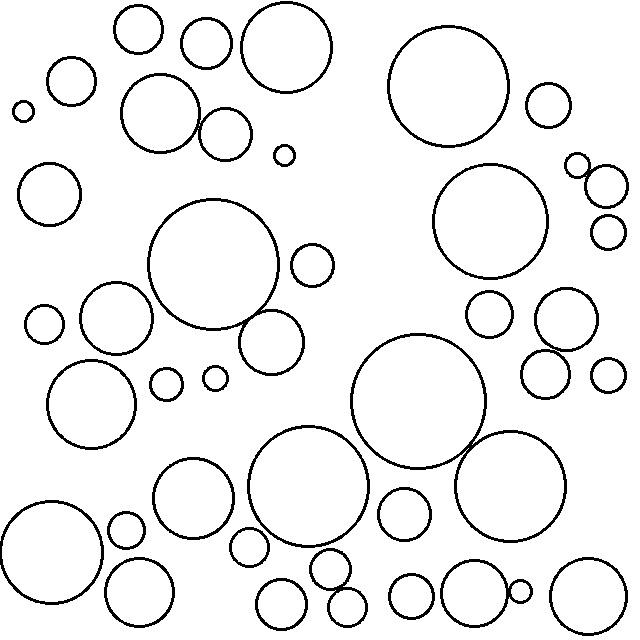circle: (347, 331, 489, 470), (147, 194, 283, 331), (387, 22, 511, 149), (247, 425, 373, 548), (431, 159, 551, 282), (453, 429, 570, 544), (3, 497, 105, 607), (241, 0, 336, 97), (43, 357, 138, 453), (152, 453, 237, 542), (119, 71, 201, 156), (550, 553, 630, 637), (78, 279, 154, 357), (104, 554, 176, 630), (237, 309, 307, 379), (439, 558, 508, 629), (16, 159, 85, 229), (532, 285, 601, 354), (377, 486, 435, 544), (198, 107, 254, 163), (180, 15, 235, 72), (254, 579, 310, 633), (112, 2, 166, 57), (46, 55, 99, 109), (463, 290, 516, 343), (519, 349, 573, 401), (524, 80, 573, 133), (387, 572, 436, 622), (289, 241, 337, 289), (582, 163, 630, 210), (22, 303, 67, 347), (229, 525, 272, 571), (309, 548, 352, 591), (329, 586, 370, 628), (107, 509, 146, 550), (588, 214, 628, 253), (590, 357, 627, 396), (149, 366, 186, 403), (562, 148, 593, 181), (202, 363, 229, 393), (271, 142, 299, 169), (11, 96, 37, 124), (510, 577, 535, 605)
